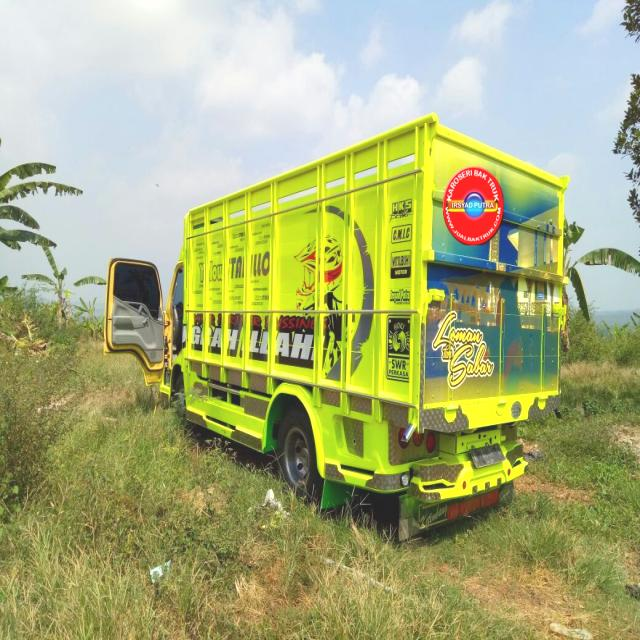truck: (103, 111, 568, 542)
